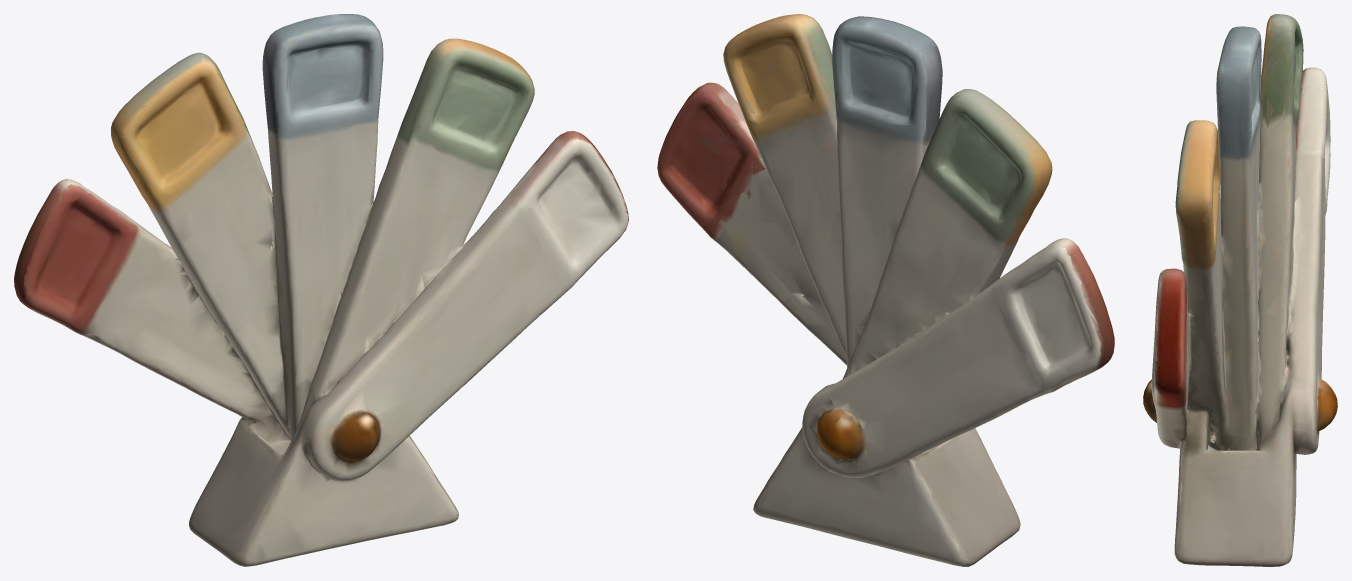
The model's file is sc-palette-fan.glb.
The picture shows the model from 3 angles, left to right: view 1: azimuth 30°, elevation 25°; view 2: azimuth 150°, elevation 25°; view 3: azimuth 270°, elevation 25°; orthographic projection. The views are drawn at different scales.
Visible parts, largest first — view 1: geometry_0; view 2: geometry_0; view 3: geometry_0.
Part boxes in pixels (x1=…): geometry_0: x1=14, y1=14, x2=628, y2=566; geometry_0: x1=657, y1=14, x2=1114, y2=566; geometry_0: x1=1143, y1=14, x2=1337, y2=566.
Size of the model in its own units: 1 by 0.9168 by 0.3376.
Materials: 1 (1 with a texture image).
